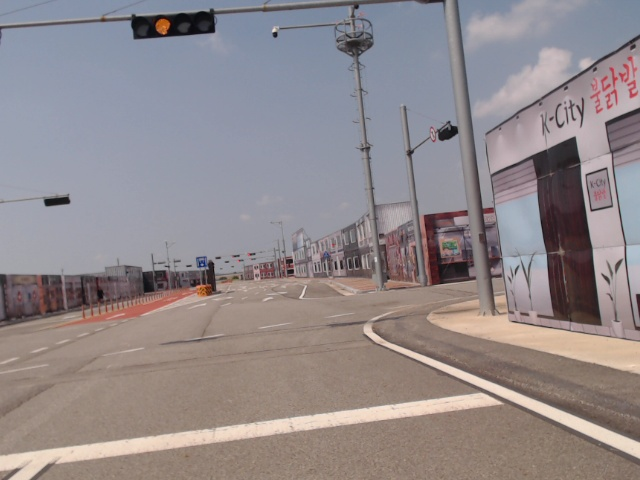orange_4: (131, 10, 216, 38)
